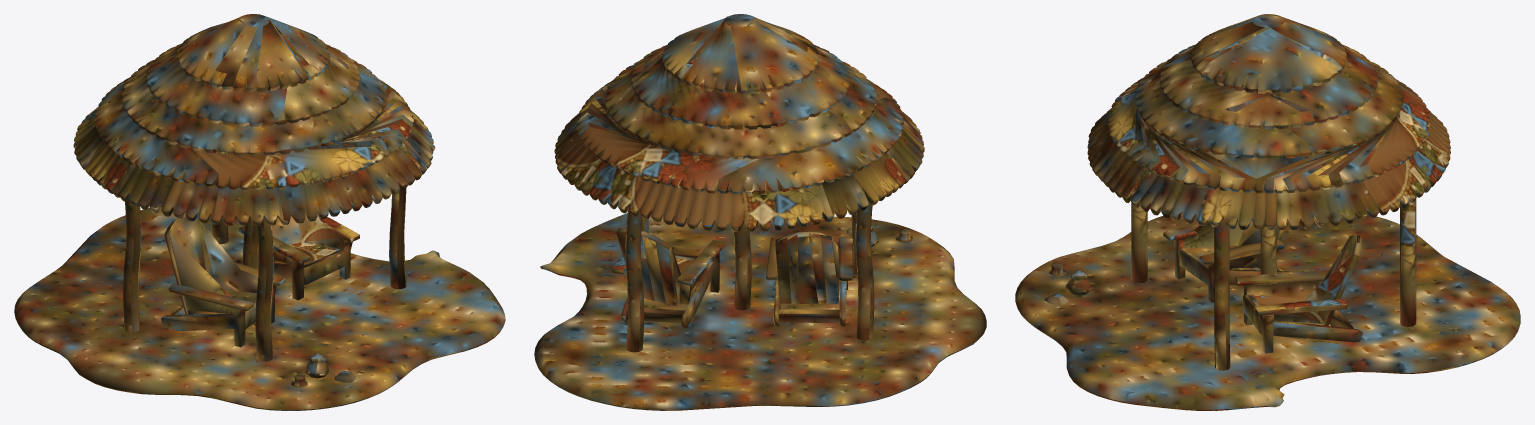
The model's file is quiosco.fbx.
The picture shows the model from 3 angles, left to right: view 1: azimuth 30°, elevation 25°; view 2: azimuth 150°, elevation 25°; view 3: azimuth 270°, elevation 25°; orthographic projection. The views are drawn at different scales.
Visible parts, largest first — view 1: mesh_rep_0_ori_repair; view 2: mesh_rep_0_ori_repair; view 3: mesh_rep_0_ori_repair.
Boxes of the visible parts, box(x1,y1,x2,y2) form: mesh_rep_0_ori_repair: box(14, 14, 505, 410); mesh_rep_0_ori_repair: box(534, 14, 986, 410); mesh_rep_0_ori_repair: box(1015, 14, 1520, 410).
Size of the model in its own units: 820 by 565 by 885.
